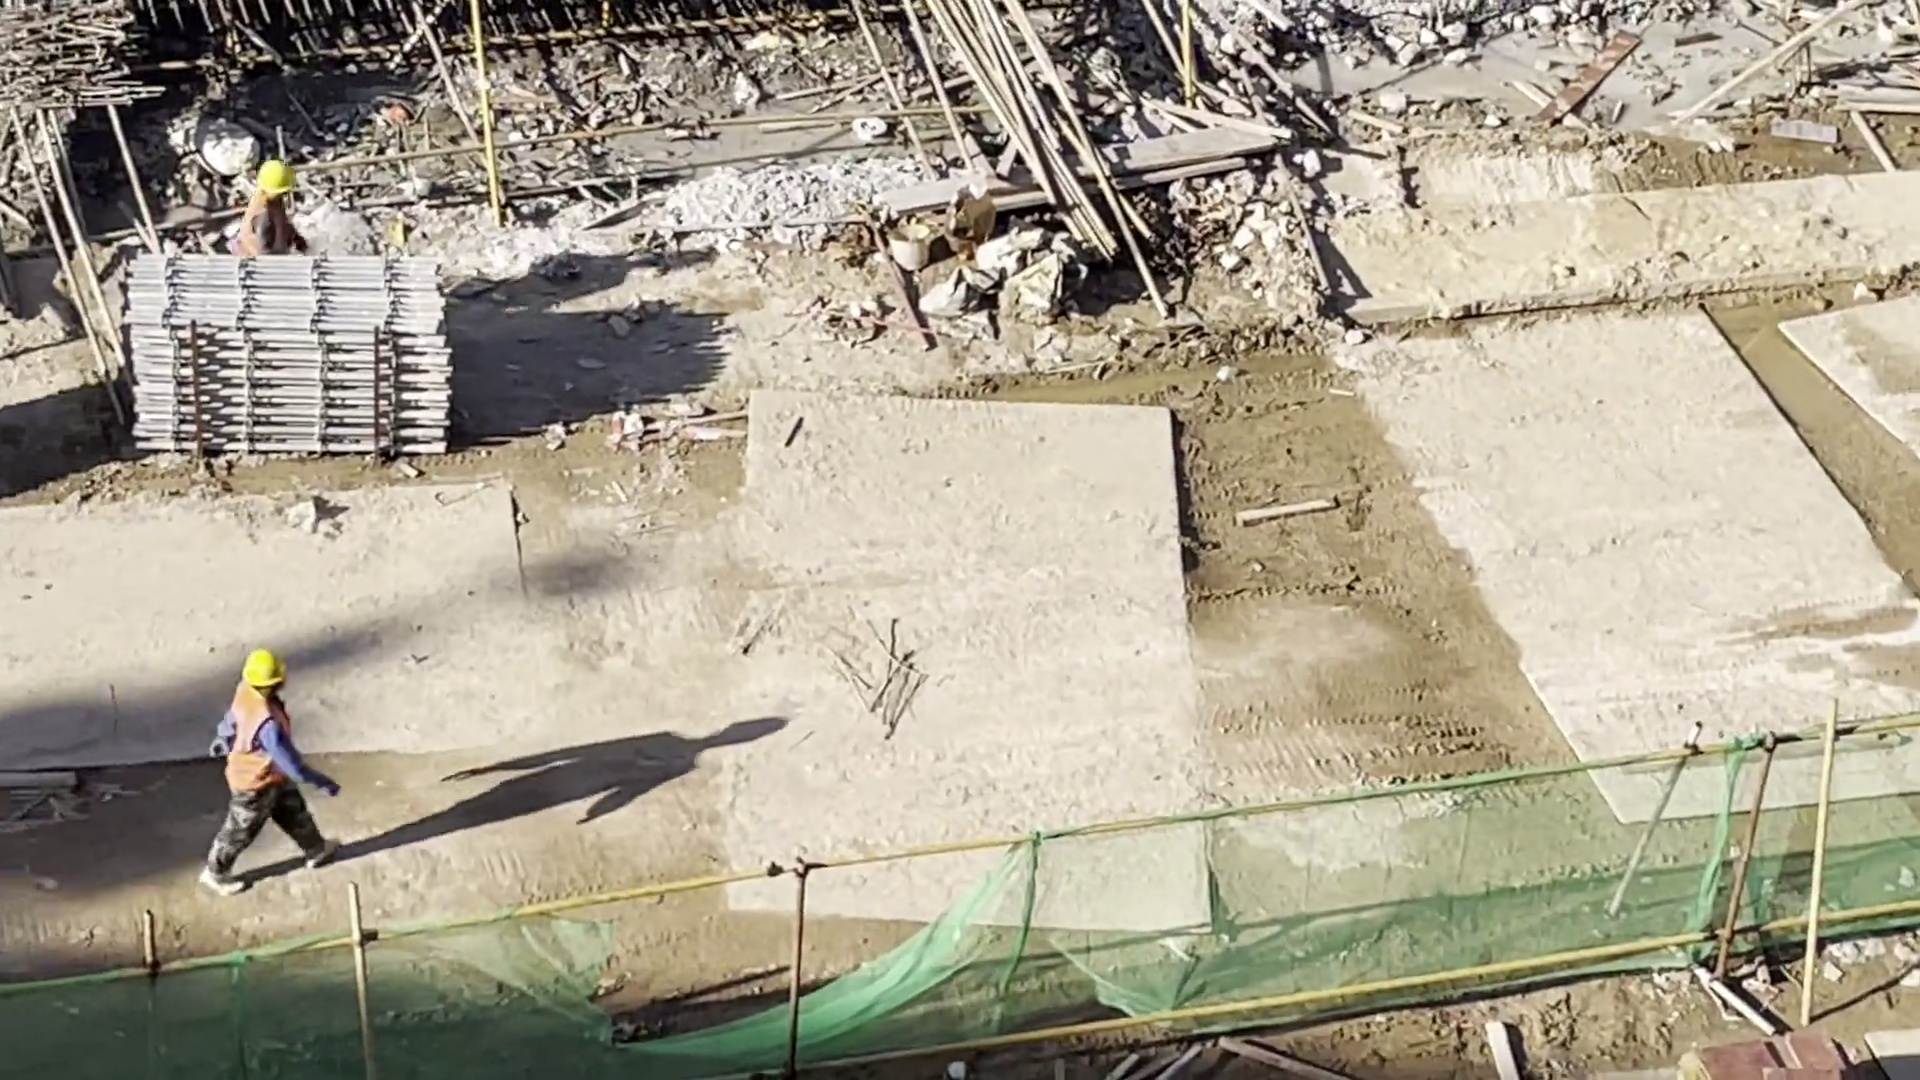board: (1671, 1016, 1860, 1080)
helmet: (230, 643, 292, 694), (252, 153, 304, 204)
person: (200, 635, 355, 905), (221, 152, 314, 263)
scaffold: (103, 234, 478, 466)
vest: (215, 678, 303, 797), (234, 198, 297, 254)
